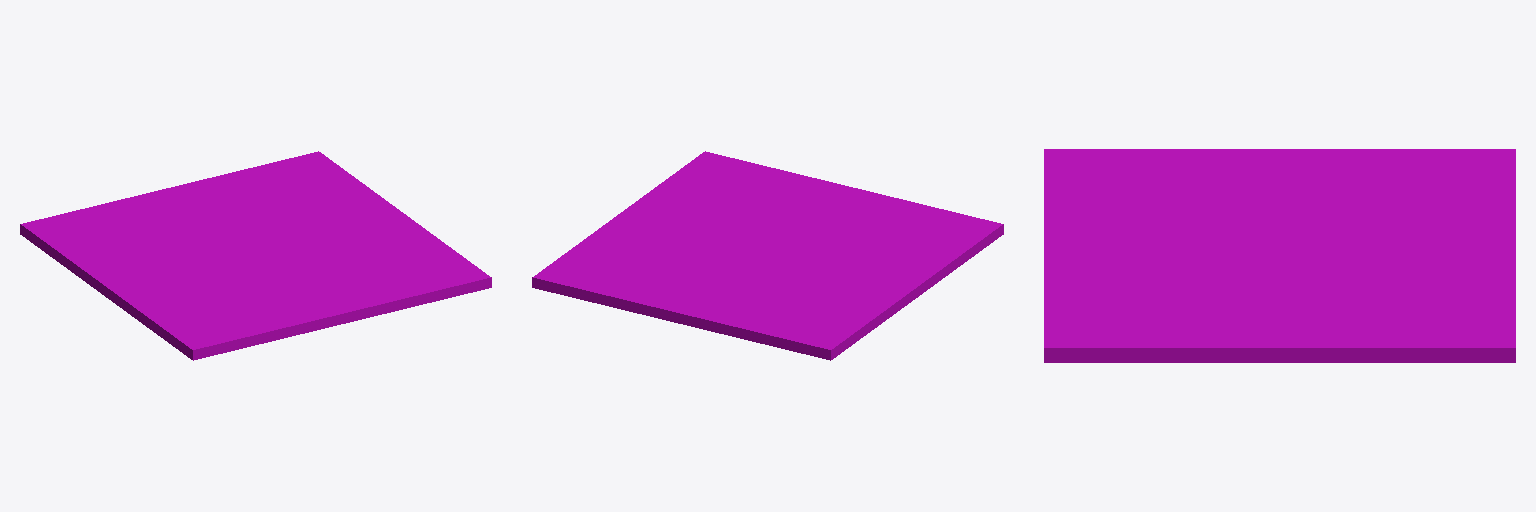
The robot description file, URDF, robot "simple_cuboid":
<?xml version="1.0"?>
<robot name="simple_cuboid">
  <link name="base_link">
    <inertial>
      <origin xyz="0 0 0" rpy="0 0 0" />
      <mass value="0.1" />
      <inertia ixx="0.000167" ixy="0" ixz="0" iyy="0.000167" iyz="0"
          izz="0.000167" />
    </inertial>
    <visual>
      <origin xyz="0 0 0" rpy="0 0 0" />
      <geometry>
        <box size="0.03 0.03 0.001" />
      </geometry>
      <material name="purple">
        <color rgba="0.8 0.1 0.8 1" />
      </material>
    </visual>

    <collision>
      <geometry>
        <box size="0.03 0.03 0.001" />
      </geometry>
    </collision>

   </link>
</robot>

--- Facts derived from the render (not from the file) ---
The picture shows the robot from 3 angles, left to right: view 1: azimuth 30°, elevation 25°; view 2: azimuth 150°, elevation 25°; view 3: azimuth 270°, elevation 25°; orthographic projection.
Model simple_cuboid with 1 links and 0 joints (none), rooted at base_link, posed all joints at 0.
Visible links, largest first — view 1: base_link; view 2: base_link; view 3: base_link.
Link boxes in pixels (x1=…): base_link: x1=20, y1=151, x2=491, y2=360; base_link: x1=532, y1=151, x2=1003, y2=360; base_link: x1=1044, y1=149, x2=1515, y2=362.
Bounding box of the posed robot: 0.03 × 0.03 × 0.001 m (x, y, z).
Geometry: primitives only (box / cylinder / sphere), no mesh files.